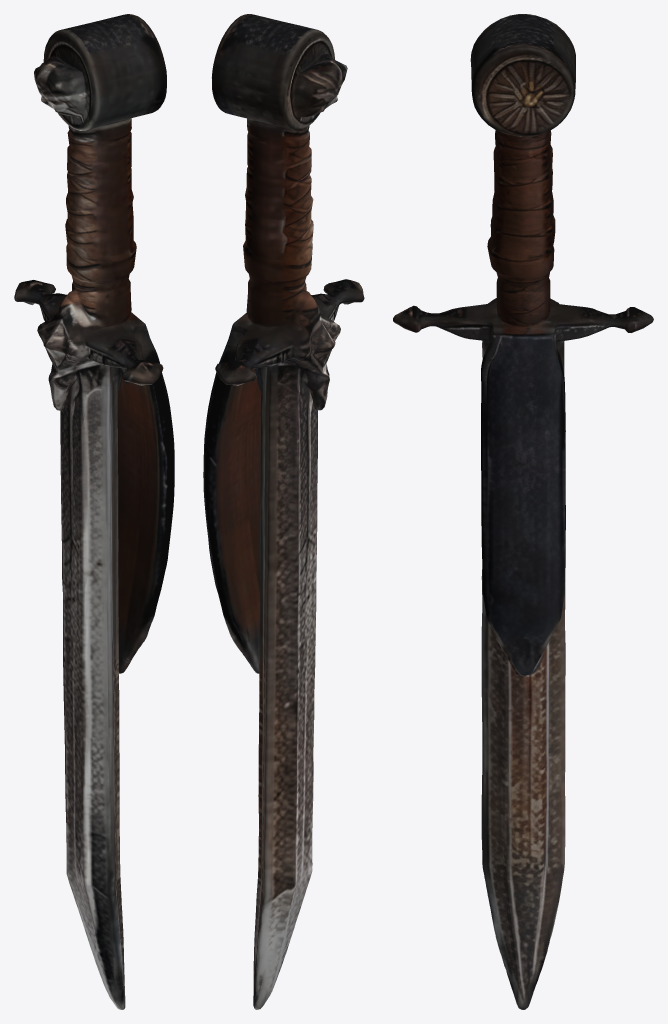
File: iron_sword.glb
3 views of the same model, side by side, from view 1: azimuth 30°, elevation 25°; view 2: azimuth 150°, elevation 25°; view 3: azimuth 270°, elevation 25° (orthographic).
Visible parts, largest first — view 1: iron_sword; view 2: iron_sword; view 3: iron_sword.
Part boxes in pixels (<box>): iron_sword: <box>14,14,174,1009</box>; iron_sword: <box>203,14,364,1009</box>; iron_sword: <box>393,14,653,1009</box>.
Size of the model in its own units: 0.1418 by 1.06 by 0.2578.
Materials: 1 (1 with a texture image).
